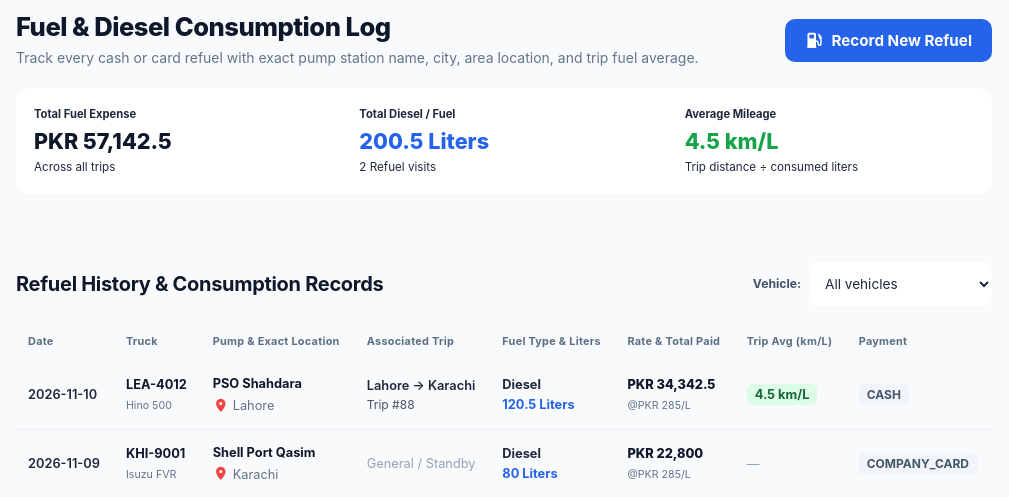
Test: DriverFuelLogs renders truck metadata, trip association, vehicle filter, and excludes V2 pump options
Check: the text "PSO Shahdara" is shown, box 213,376 -> 302,391
Check: the text "LEA-4012" is shown, box 126,375 -> 189,395
Select "LEA-4012 (Hino 500)" in the dropdown named "Filter fuel logs by vehicle" at [900, 284], box 809,262 -> 992,306
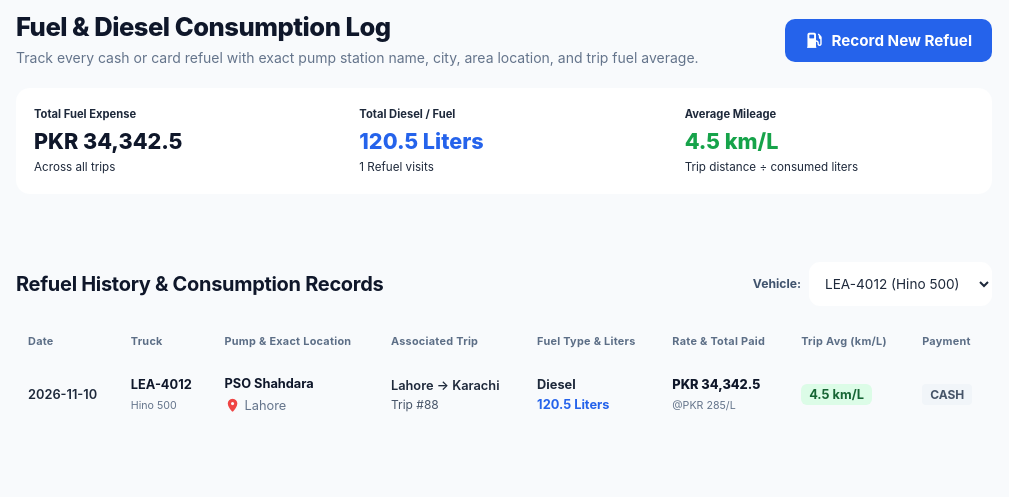
Check: the text "Shell Port Qasim" is gone
